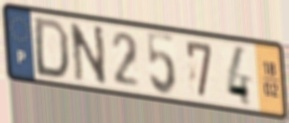2: (111, 31, 141, 90)
4: (222, 43, 256, 109)
5: (145, 29, 178, 98)
7: (184, 39, 214, 99)
D: (34, 16, 71, 81)
N: (68, 21, 109, 88)
